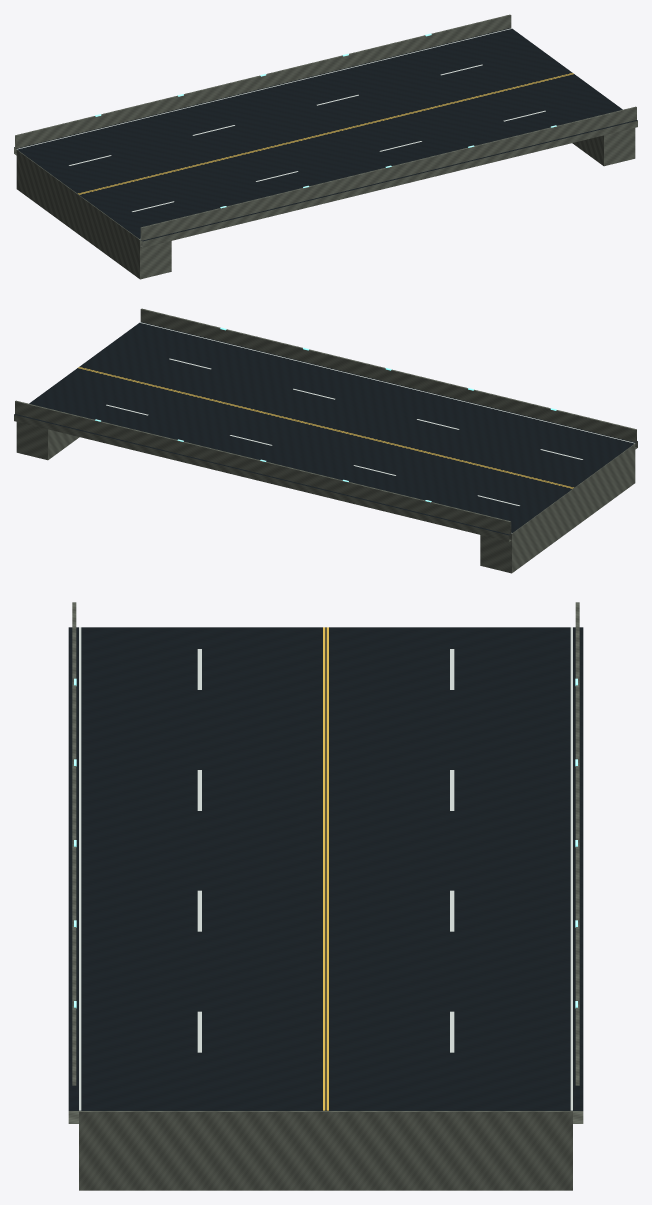
The model's file is bridge_4lane_32m_LOD0.glb.
3 renders of one model, top to bottom at view 1: azimuth 30°, elevation 25°; view 2: azimuth 150°, elevation 25°; view 3: azimuth 270°, elevation 25°, orthographic. The views are drawn at different scales.
Parts seen in each view (by area): view 1: bridge_4lane_32m__deck, bridge_4lane_32m__pier; view 2: bridge_4lane_32m__deck, bridge_4lane_32m__pier; view 3: bridge_4lane_32m__deck, bridge_4lane_32m__pier.
Boxes of the visible parts, left/top/right/bottom form: bridge_4lane_32m__deck: left=14, top=14, right=637, bottom=247; bridge_4lane_32m__pier: left=16, top=128, right=635, bottom=279; bridge_4lane_32m__deck: left=14, top=308, right=637, bottom=541; bridge_4lane_32m__pier: left=16, top=422, right=635, bottom=573; bridge_4lane_32m__deck: left=68, top=602, right=583, bottom=1123; bridge_4lane_32m__pier: left=79, top=1111, right=572, bottom=1190.
Size of the model in its own units: 32 by 4.24 by 14.4.
Materials: 5 (2 with a texture image).
